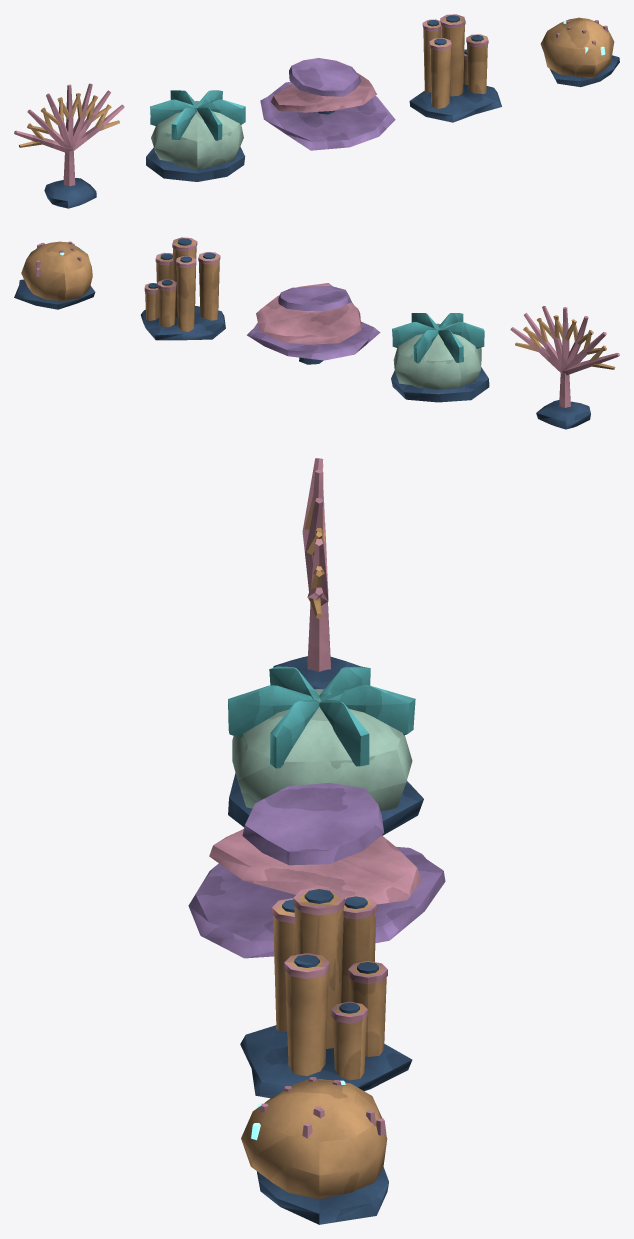
3 views of the same model, one above another, from view 1: azimuth 30°, elevation 25°; view 2: azimuth 150°, elevation 25°; view 3: azimuth 270°, elevation 25° (orthographic). The views are drawn at different scales.
Visible parts, largest first — view 1: DL006_CoralFamily_coral_orange, DL006_CoralFamily_coral_violet, DL006_CoralFamily_shadow_blue, DL006_CoralFamily_coral_pink, DL006_CoralFamily_coral_mint, DL006_CoralFamily_coral_turq; view 2: DL006_CoralFamily_coral_orange, DL006_CoralFamily_coral_pink, DL006_CoralFamily_shadow_blue, DL006_CoralFamily_coral_violet, DL006_CoralFamily_coral_mint, DL006_CoralFamily_coral_turq; view 3: DL006_CoralFamily_coral_orange, DL006_CoralFamily_coral_violet, DL006_CoralFamily_coral_pink, DL006_CoralFamily_shadow_blue, DL006_CoralFamily_coral_mint, DL006_CoralFamily_coral_turq.
Boxes of the visible parts, x1=… form: DL006_CoralFamily_coral_orange: x1=19, y1=15, x2=614, y2=147; DL006_CoralFamily_coral_violet: x1=260, y1=58, x2=395, y2=150; DL006_CoralFamily_shadow_blue: x1=44, y1=15, x2=619, y2=208; DL006_CoralFamily_coral_pink: x1=14, y1=14, x2=608, y2=186; DL006_CoralFamily_coral_mint: x1=151, y1=101, x2=243, y2=169; DL006_CoralFamily_coral_turq: x1=150, y1=90, x2=245, y2=140; DL006_CoralFamily_coral_orange: x1=21, y1=238, x2=615, y2=369; DL006_CoralFamily_coral_pink: x1=35, y1=237, x2=619, y2=407; DL006_CoralFamily_shadow_blue: x1=14, y1=238, x2=590, y2=429; DL006_CoralFamily_coral_violet: x1=247, y1=285, x2=380, y2=360; DL006_CoralFamily_coral_mint: x1=393, y1=323, x2=481, y2=389; DL006_CoralFamily_coral_turq: x1=392, y1=313, x2=484, y2=363; DL006_CoralFamily_coral_orange: x1=241, y1=495, x2=387, y2=1199; DL006_CoralFamily_coral_violet: x1=188, y1=783, x2=445, y2=958; DL006_CoralFamily_coral_pink: x1=209, y1=458, x2=421, y2=1138; DL006_CoralFamily_shadow_blue: x1=228, y1=656, x2=423, y2=1224; DL006_CoralFamily_coral_mint: x1=232, y1=689, x2=412, y2=810; DL006_CoralFamily_coral_turq: x1=228, y1=666, x2=415, y2=768.
Size of the model in its own units: 11.36 by 2.11 by 2.11.
Materials: 7 (6 with a texture image).
